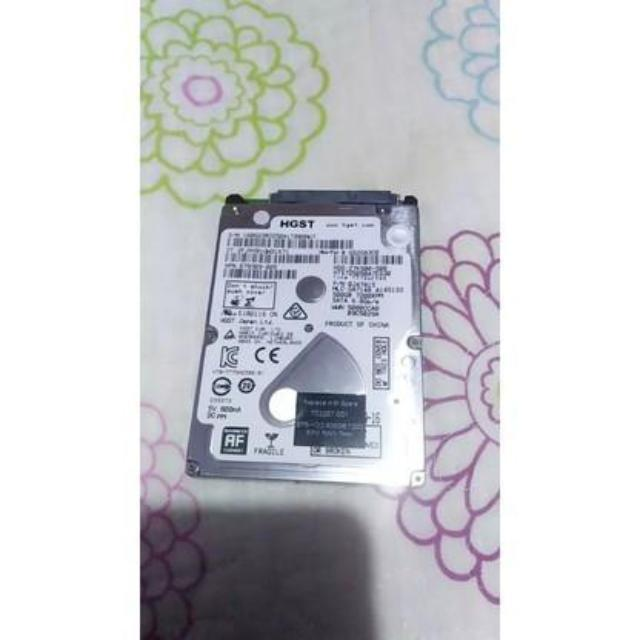DISK: (182, 182, 430, 496)
